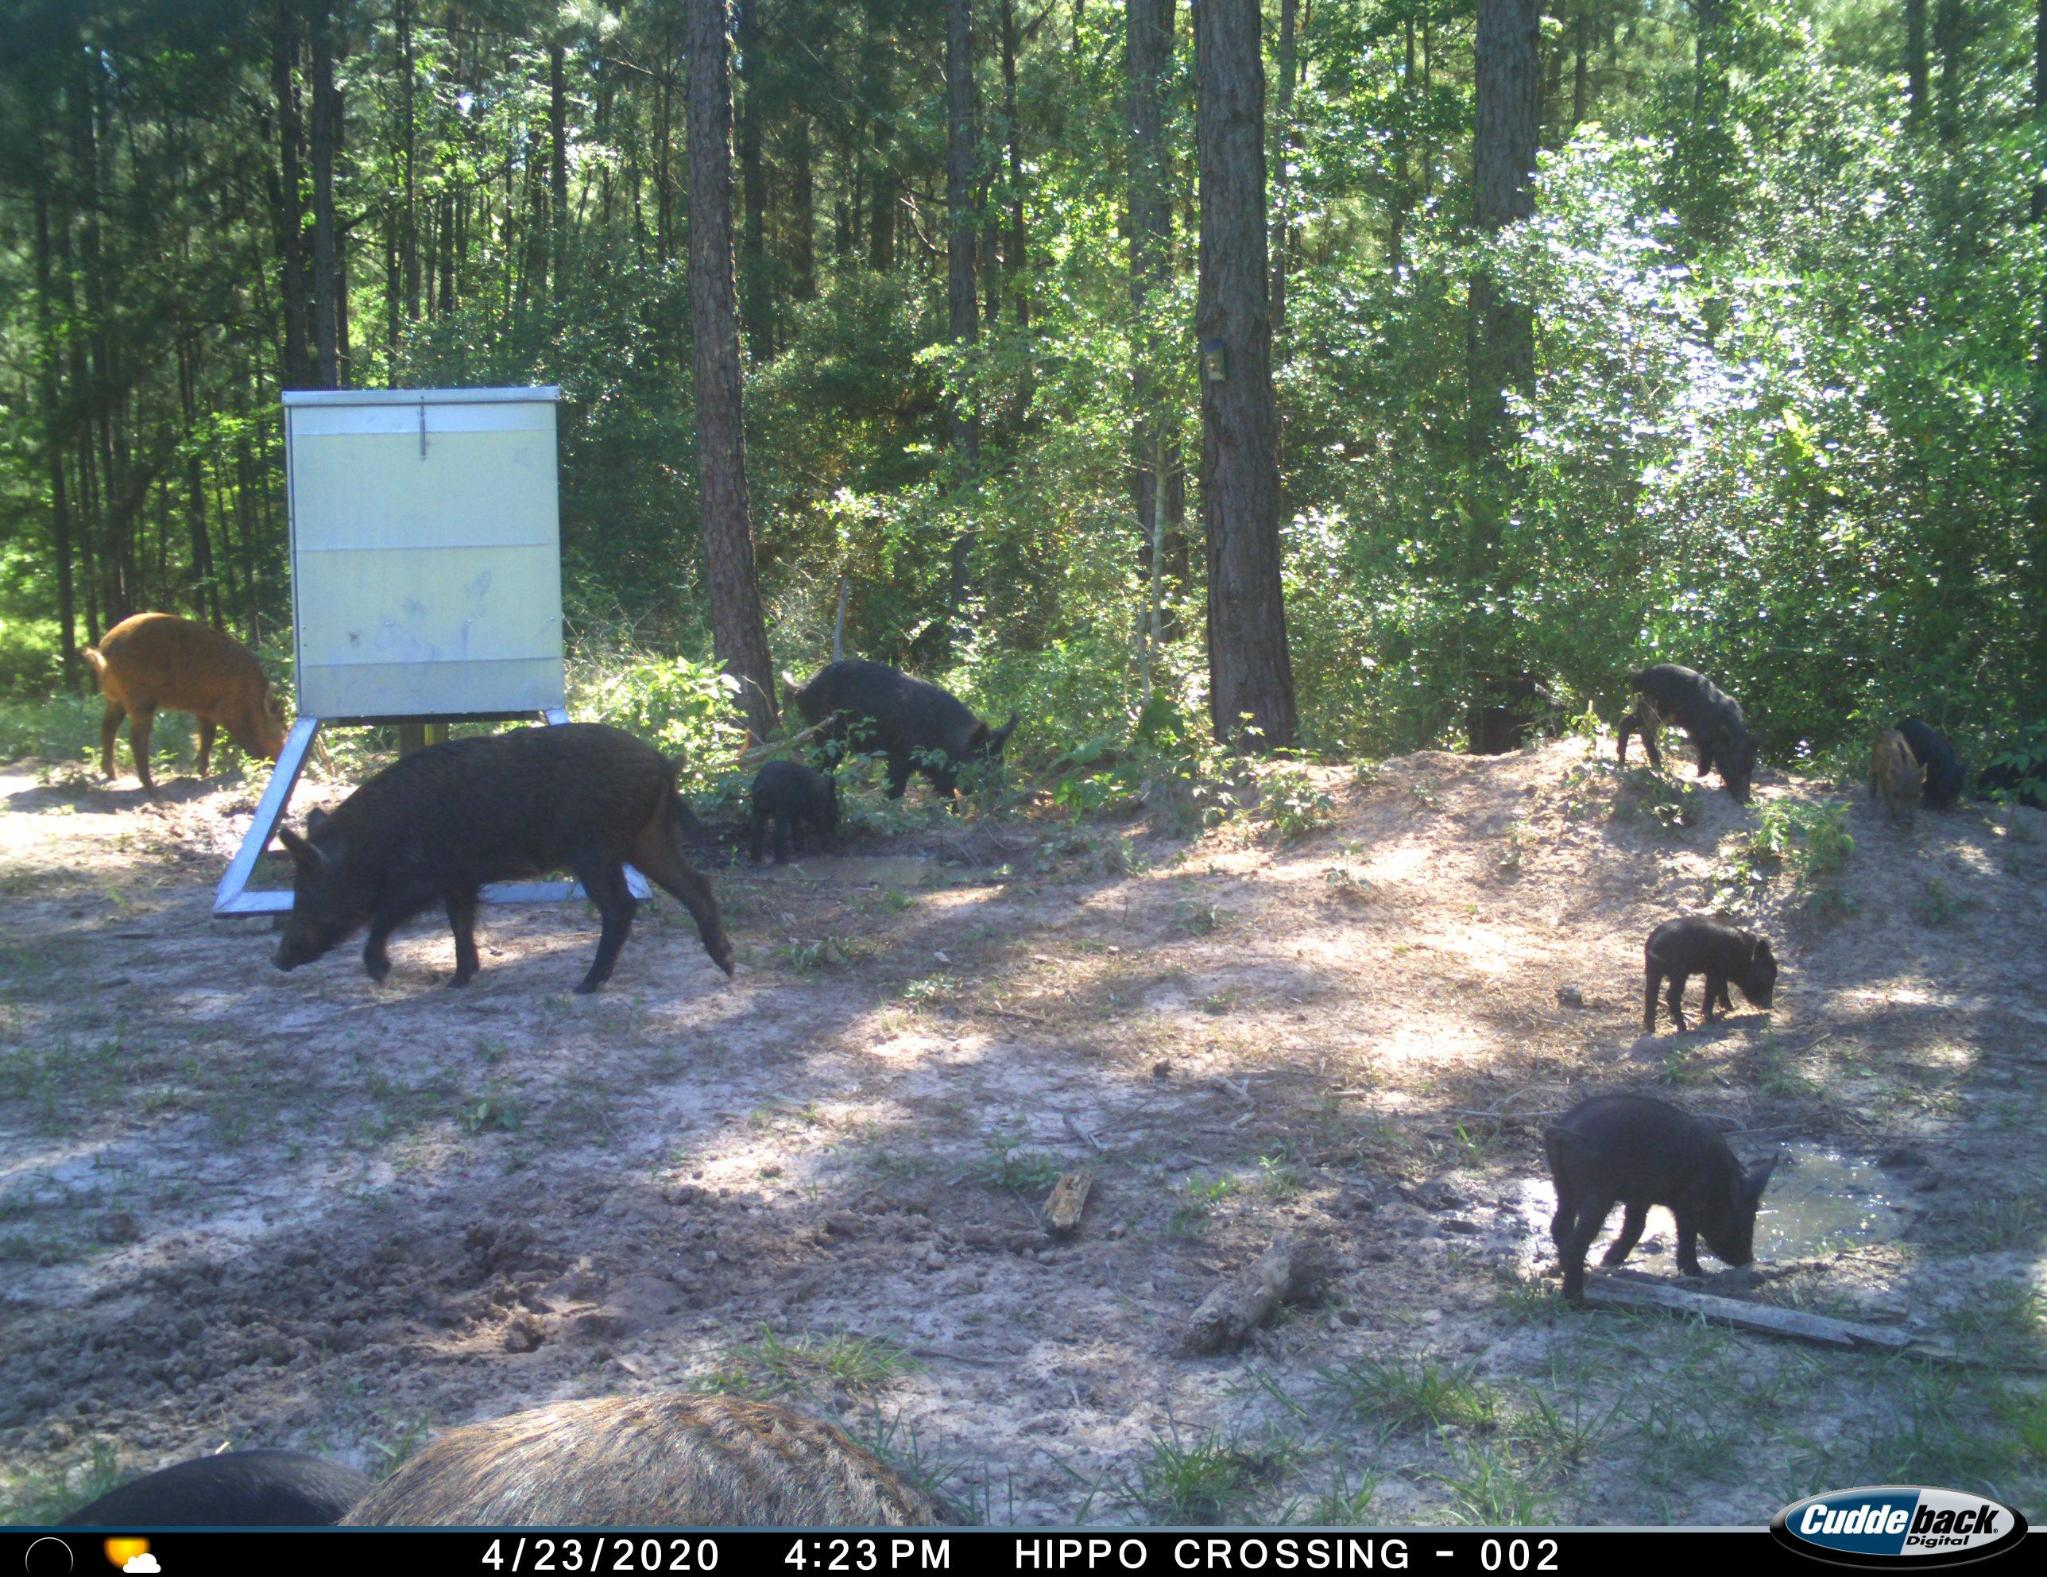Hog: (265, 726, 742, 1001), (315, 1372, 1032, 1526), (1537, 1085, 1784, 1289), (783, 649, 1032, 817), (78, 605, 296, 765), (43, 1449, 402, 1527), (1621, 656, 1767, 802), (1631, 908, 1787, 1032), (744, 749, 858, 855), (1863, 716, 1933, 837)
